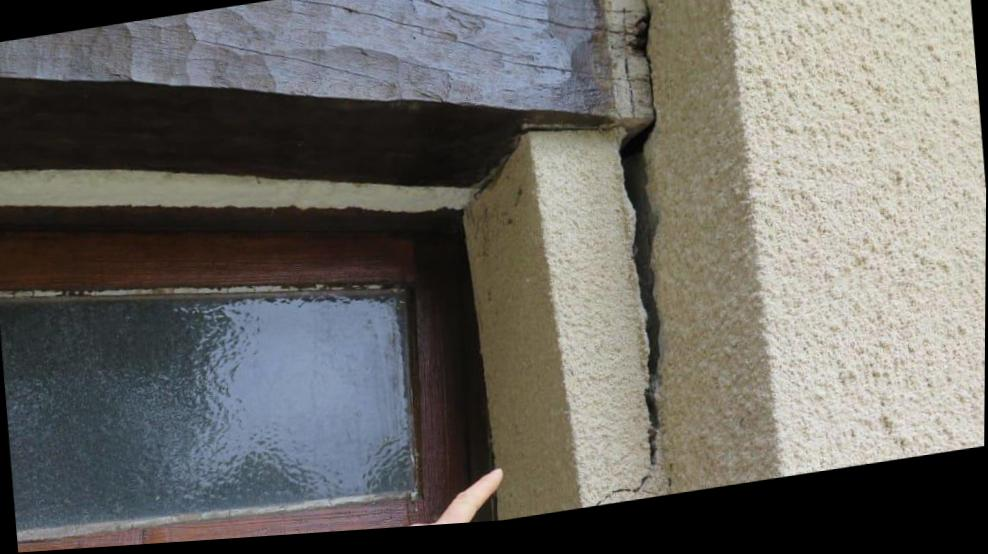crack: (596, 0, 664, 514)
